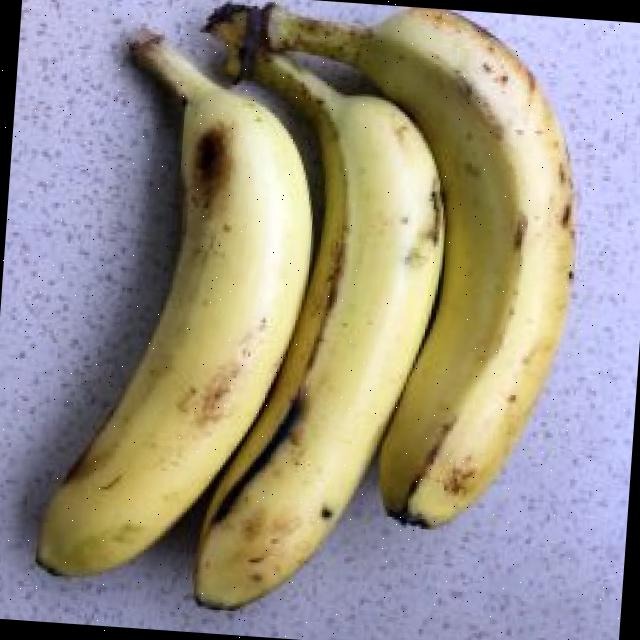banana: (35, 33, 327, 579), (269, 5, 573, 526), (194, 58, 442, 605)
